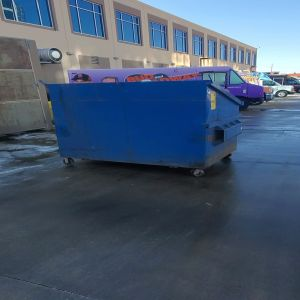Dumpster: (47, 83, 242, 178)
